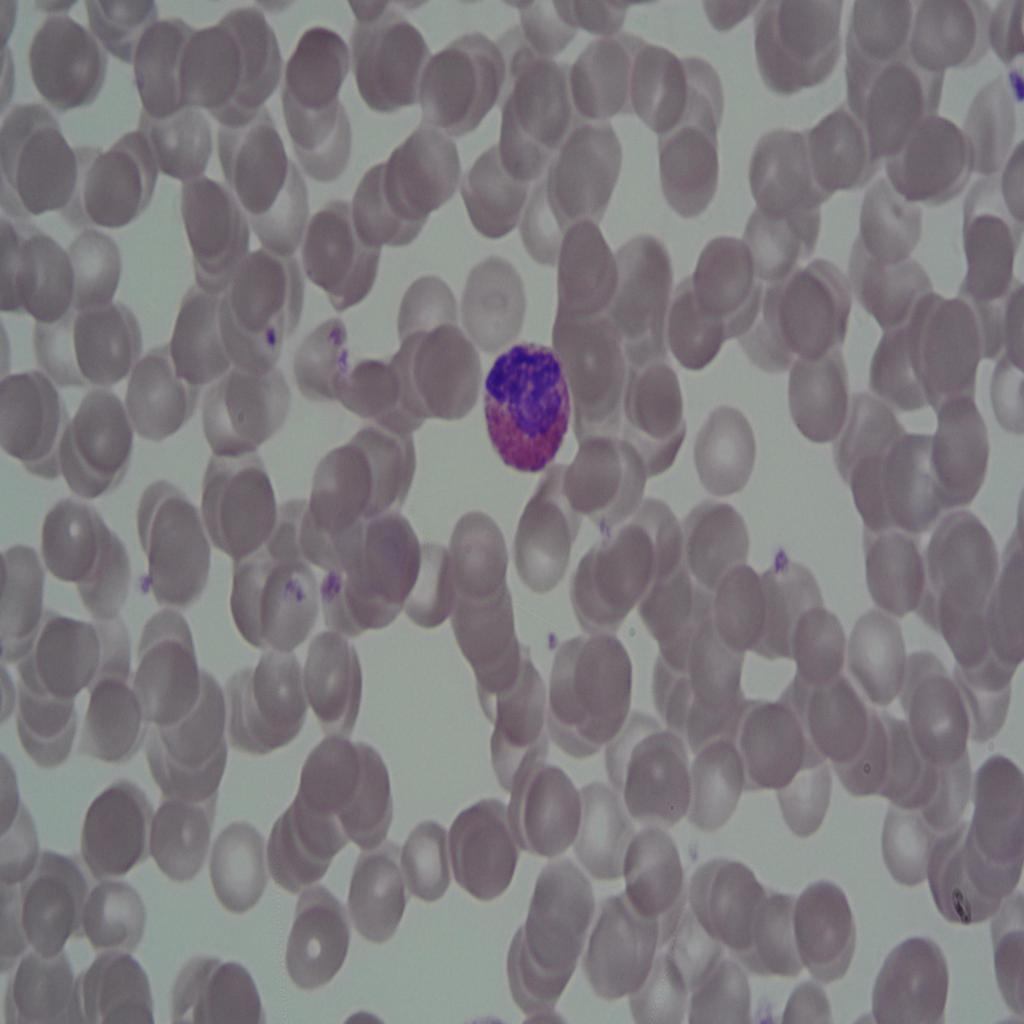Eosinofil: (482, 333, 576, 485)
Platelet: (314, 556, 352, 614), (758, 530, 796, 588), (258, 320, 296, 363), (539, 622, 561, 664), (136, 559, 154, 603)
